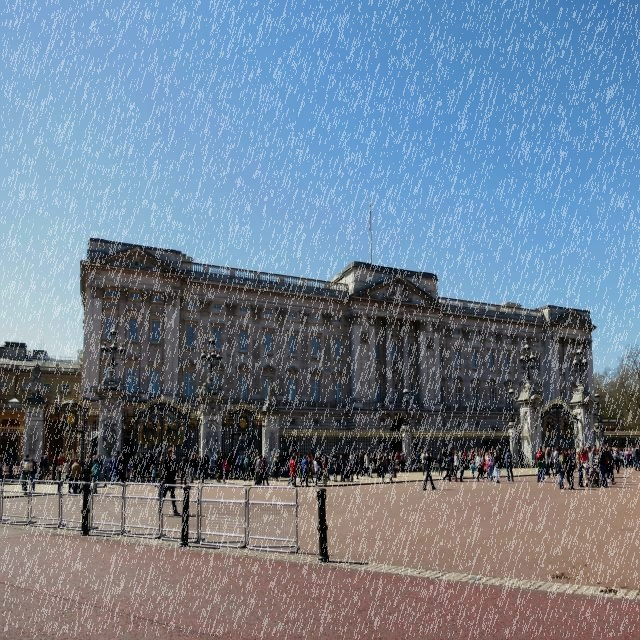pessoa: (156, 446, 182, 516), (592, 446, 608, 488), (602, 444, 618, 485), (423, 447, 436, 490), (563, 450, 576, 490), (20, 452, 32, 492), (574, 448, 586, 488), (556, 450, 567, 490), (504, 448, 516, 483), (579, 446, 590, 484), (71, 458, 82, 495), (200, 449, 212, 482), (286, 455, 298, 487), (536, 445, 546, 483), (28, 457, 38, 493), (544, 446, 555, 478), (91, 457, 100, 495), (260, 454, 270, 488), (300, 454, 310, 488), (61, 456, 71, 488), (254, 454, 264, 486), (585, 444, 594, 477), (442, 453, 452, 482), (475, 453, 485, 482), (288, 452, 297, 484), (486, 450, 495, 482), (221, 455, 231, 483), (306, 456, 316, 484), (458, 447, 466, 482), (494, 450, 502, 484), (36, 454, 45, 484), (216, 450, 224, 483), (482, 452, 491, 481), (117, 452, 125, 484), (452, 450, 460, 482), (350, 454, 360, 479), (146, 451, 156, 476), (81, 460, 92, 482), (180, 456, 188, 486), (196, 454, 204, 484), (320, 457, 328, 487), (386, 453, 394, 482), (380, 450, 387, 483), (42, 453, 50, 481), (96, 454, 104, 482), (110, 454, 118, 482), (188, 451, 195, 483), (242, 454, 250, 482), (358, 448, 366, 476), (436, 450, 444, 478), (253, 452, 260, 483), (313, 457, 320, 488), (68, 458, 74, 494), (270, 454, 278, 481), (331, 455, 339, 482), (133, 452, 140, 482), (233, 450, 240, 480), (339, 452, 346, 482), (274, 454, 282, 480), (322, 454, 329, 482), (316, 454, 323, 482), (140, 451, 146, 483), (149, 464, 157, 488), (505, 448, 513, 471), (618, 446, 626, 469), (0, 453, 6, 483), (542, 446, 548, 476), (344, 461, 352, 483), (448, 448, 454, 477), (238, 451, 244, 479), (518, 448, 526, 469), (634, 444, 640, 472), (108, 455, 114, 482), (614, 447, 620, 474), (157, 455, 165, 475), (368, 453, 374, 479), (552, 446, 558, 472), (495, 446, 502, 468), (362, 451, 368, 476), (412, 448, 418, 472), (630, 444, 636, 468), (469, 460, 476, 480), (400, 450, 406, 473), (571, 446, 577, 469), (348, 452, 354, 474), (420, 450, 426, 472), (550, 448, 556, 470), (624, 446, 630, 468), (377, 452, 382, 478), (327, 450, 332, 476), (86, 452, 94, 468), (490, 447, 496, 468), (417, 447, 422, 472), (126, 460, 132, 480), (249, 450, 253, 480), (390, 449, 396, 467), (466, 448, 471, 469), (314, 448, 322, 461), (628, 444, 632, 470), (297, 453, 301, 478), (462, 450, 467, 470), (499, 445, 504, 465), (634, 442, 638, 467), (214, 450, 220, 466), (592, 445, 600, 457), (374, 448, 378, 470), (192, 452, 196, 473), (606, 470, 612, 482), (612, 452, 616, 469), (336, 454, 339, 476), (242, 451, 247, 464), (353, 450, 361, 458), (478, 448, 486, 456), (474, 446, 479, 458), (307, 452, 312, 462), (608, 446, 616, 452), (297, 451, 301, 462), (331, 448, 336, 456), (396, 450, 400, 460), (451, 447, 455, 457), (470, 449, 474, 459), (568, 448, 572, 458), (535, 448, 538, 461), (195, 452, 199, 460), (384, 450, 388, 458), (116, 451, 120, 458), (367, 452, 370, 460), (564, 450, 568, 456), (579, 445, 582, 453), (601, 446, 605, 452), (339, 452, 342, 458), (253, 454, 257, 458), (543, 476, 547, 478)
